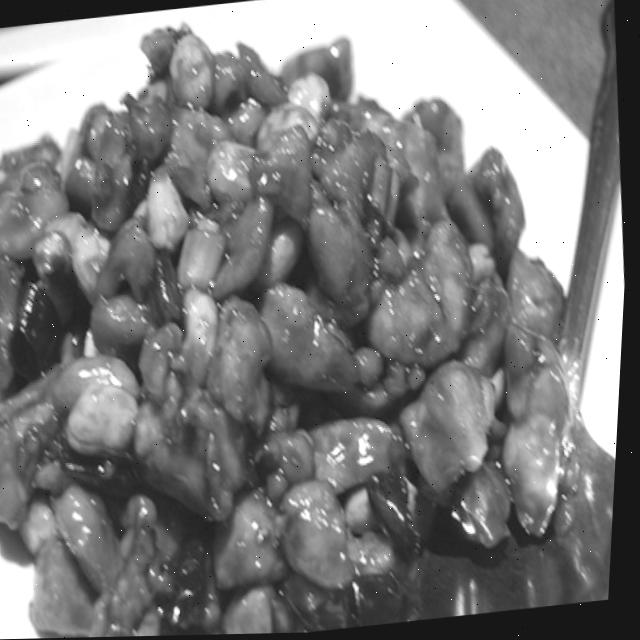鸡肉料理 含炸鸡: (0, 0, 634, 640)
